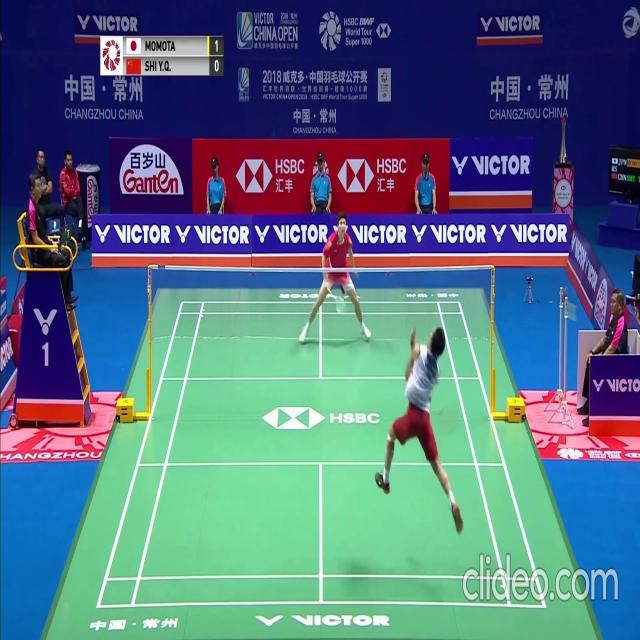Shuttlecock: (386, 237, 391, 244)
